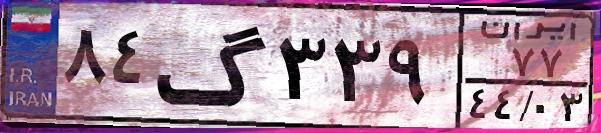0: (535, 70, 560, 125)
3: (270, 28, 330, 110), (330, 28, 385, 110), (560, 70, 590, 125)
4: (110, 28, 156, 98), (470, 70, 495, 125), (495, 70, 520, 125)
7: (537, 27, 568, 80), (508, 27, 537, 80)
8: (57, 26, 110, 100)
9: (385, 28, 445, 110)
گ: (156, 12, 270, 120)
